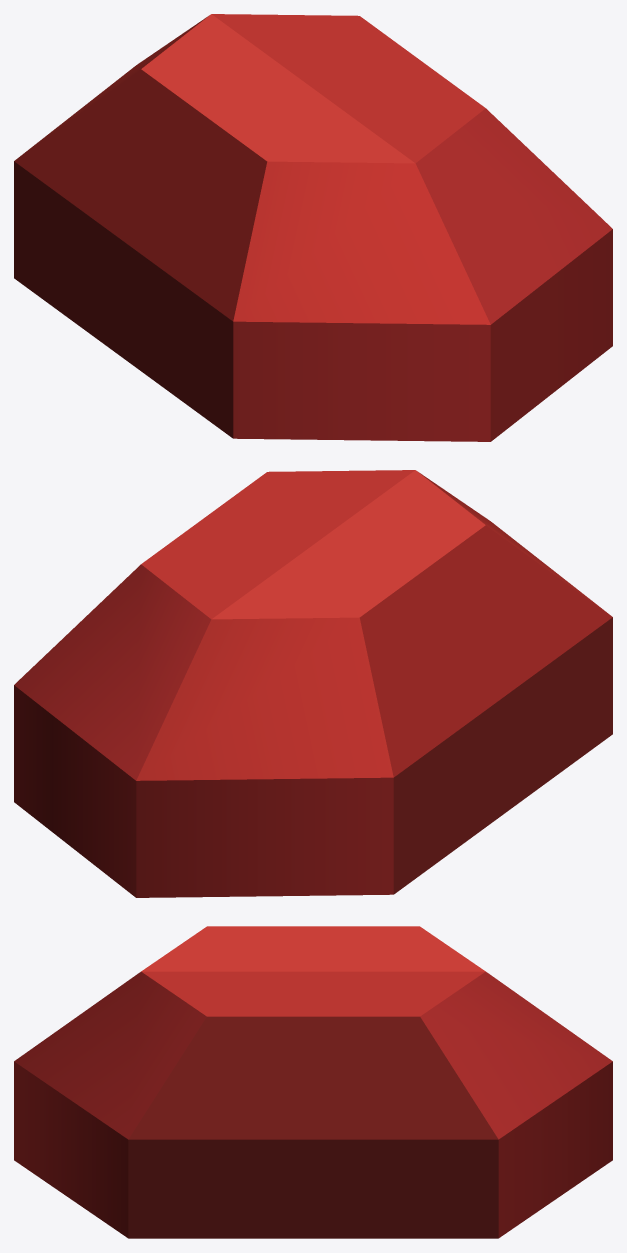
The model's file is ST_Prop_Gem_01.fbx.
3 views of the same model, one above another, from view 1: azimuth 30°, elevation 25°; view 2: azimuth 150°, elevation 25°; view 3: azimuth 270°, elevation 25° (orthographic). The views are drawn at different scales.
Visible parts, largest first — view 1: ST_Prop_Gem_01; view 2: ST_Prop_Gem_01; view 3: ST_Prop_Gem_01.
Boxes of the visible parts, left/top/right/bottom form: ST_Prop_Gem_01: left=14, top=14, right=612, bottom=441; ST_Prop_Gem_01: left=14, top=470, right=612, bottom=897; ST_Prop_Gem_01: left=14, top=926, right=612, bottom=1238.
Bounding box in the file's own units: 0.3151 × 0.1772 × 0.5096.
